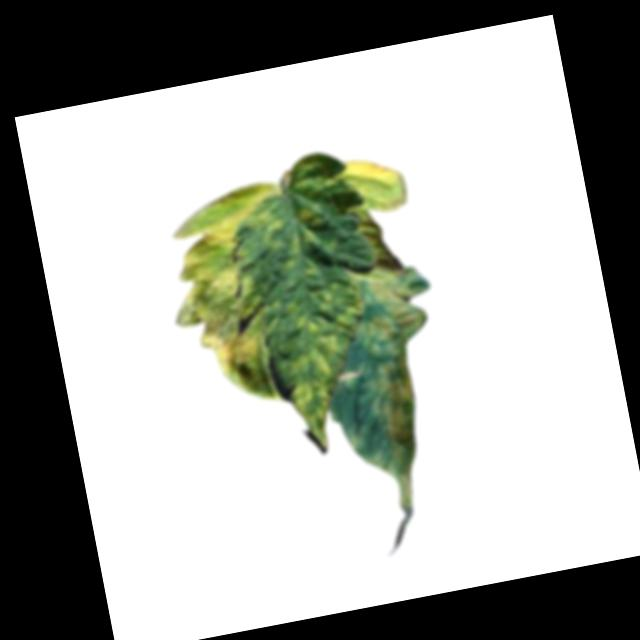Leaf_Mold: (149, 138, 468, 549)
